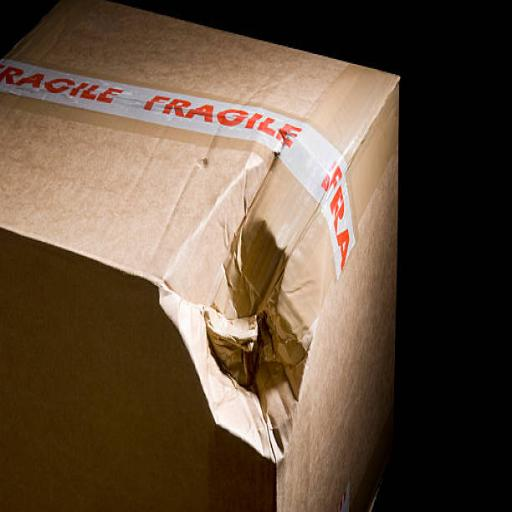crushed: (98, 118, 368, 469)
